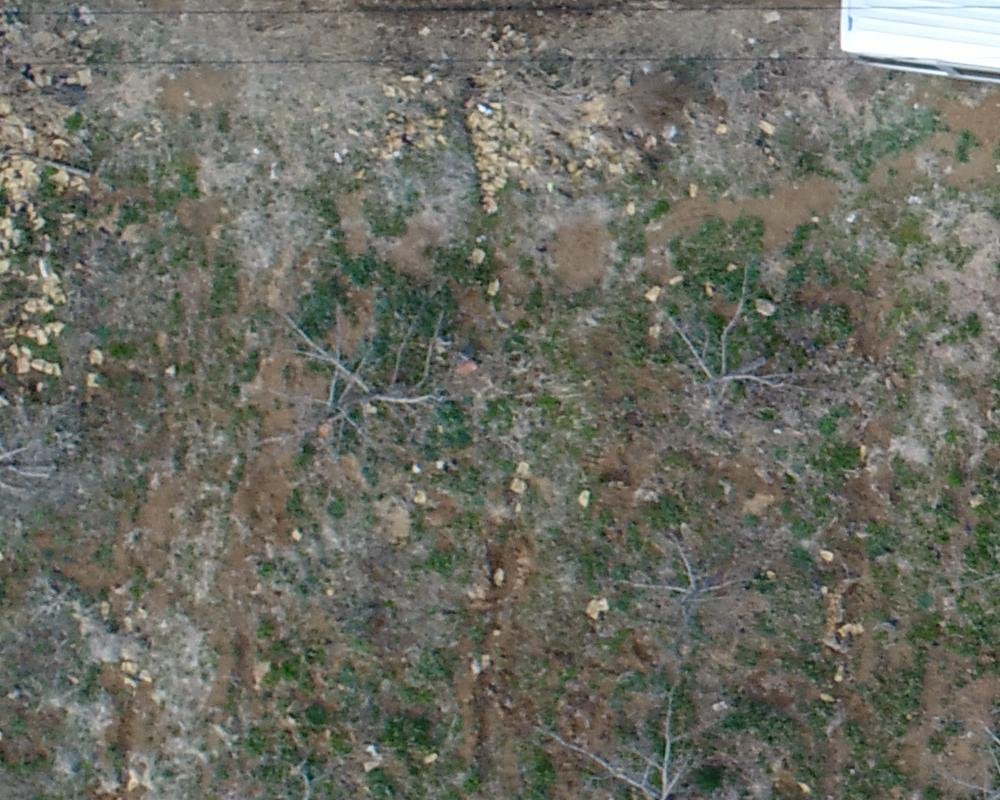apple: (246, 288, 474, 469), (518, 654, 772, 790), (653, 251, 816, 438), (596, 518, 760, 650), (10, 400, 98, 511)
